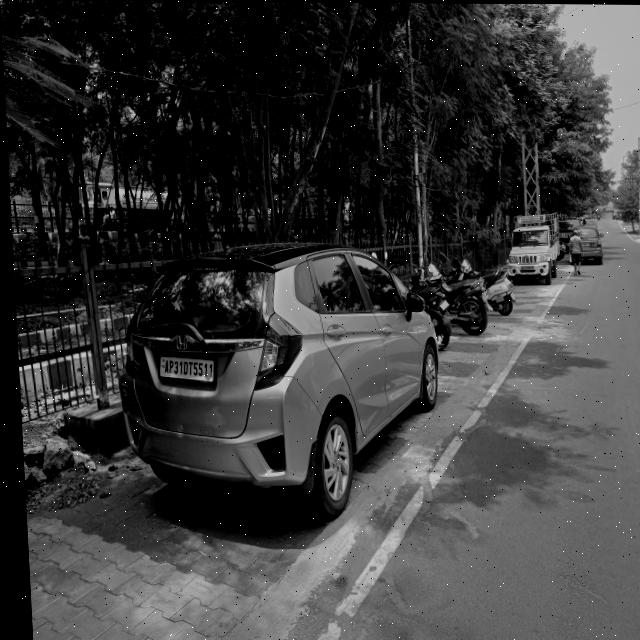car: (107, 243, 451, 527)
